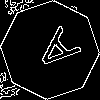A: (25, 25, 82, 81)
